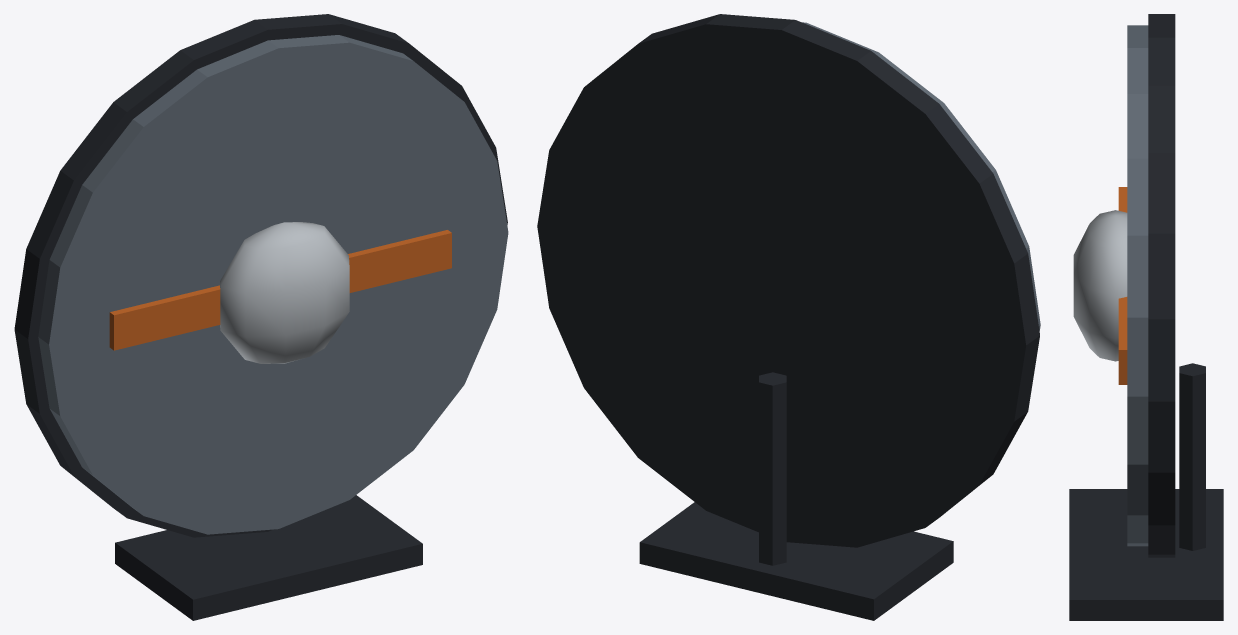
The model's file is shield-physical.glb.
3 renders of one model, left to right at view 1: azimuth 30°, elevation 25°; view 2: azimuth 150°, elevation 25°; view 3: azimuth 270°, elevation 25°, orthographic. The views are drawn at different scales.
Parts seen in each view (by area): view 1: shield-physical; view 2: shield-physical; view 3: shield-physical.
Boxes of the visible parts, left/top/right/bottom form: shield-physical: left=14, top=14, right=508, bottom=620; shield-physical: left=537, top=14, right=1040, bottom=620; shield-physical: left=1069, top=14, right=1223, bottom=620.
Bounding box in the file's own units: 0.71 × 0.755 × 0.2.
